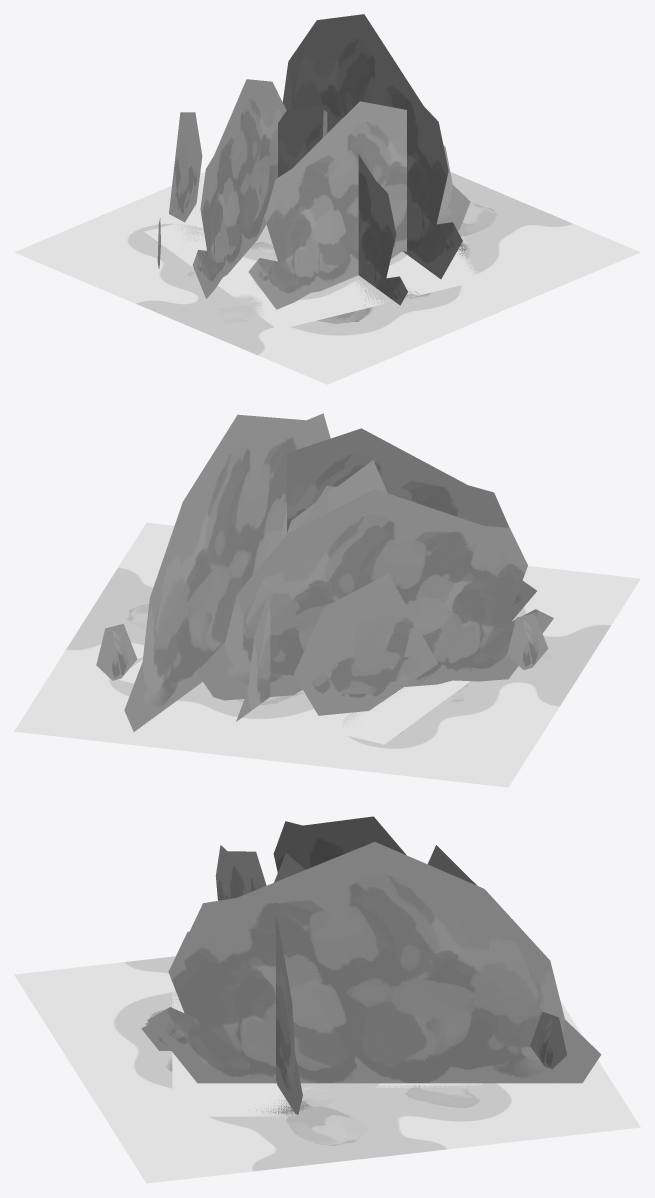
Rendered from _M_Vege.fbx.
3 renders of one model, top to bottom at view 1: azimuth 30°, elevation 25°; view 2: azimuth 150°, elevation 25°; view 3: azimuth 270°, elevation 25°, orthographic. The views are drawn at different scales.
Parts seen in each view (by area): view 1: SM_Bush, SM_Tache02, SM_Tache01, SM_BushSeul; view 2: SM_Bush, SM_Tache02, SM_Tache01, SM_BushSeul, SM_Grass02; view 3: SM_Bush, SM_Tache02, SM_Tache01, SM_BushSeul.
Part boxes in pixels (x1=…): SM_Bush: x1=157, y1=14, x2=470, y2=309; SM_Tache02: x1=14, y1=171, x2=640, y2=384; SM_Tache01: x1=144, y1=219, x2=485, y2=329; SM_BushSeul: x1=278, y1=104, x2=407, y2=305; SM_Bush: x1=96, y1=413, x2=553, y2=731; SM_Tache02: x1=14, y1=522, x2=640, y2=787; SM_Tache01: x1=118, y1=659, x2=470, y2=744; SM_BushSeul: x1=236, y1=486, x2=336, y2=721; SM_Grass02: x1=286, y1=460, x2=387, y2=534; SM_Bush: x1=147, y1=816, x2=601, y2=1114; SM_Tache02: x1=14, y1=956, x2=640, y2=1183; SM_Tache01: x1=172, y1=986, x2=482, y2=1116; SM_BushSeul: x1=141, y1=931, x2=207, y2=1050.
Size of the model in its own units: 1.1 by 0.5676 by 1.1.
